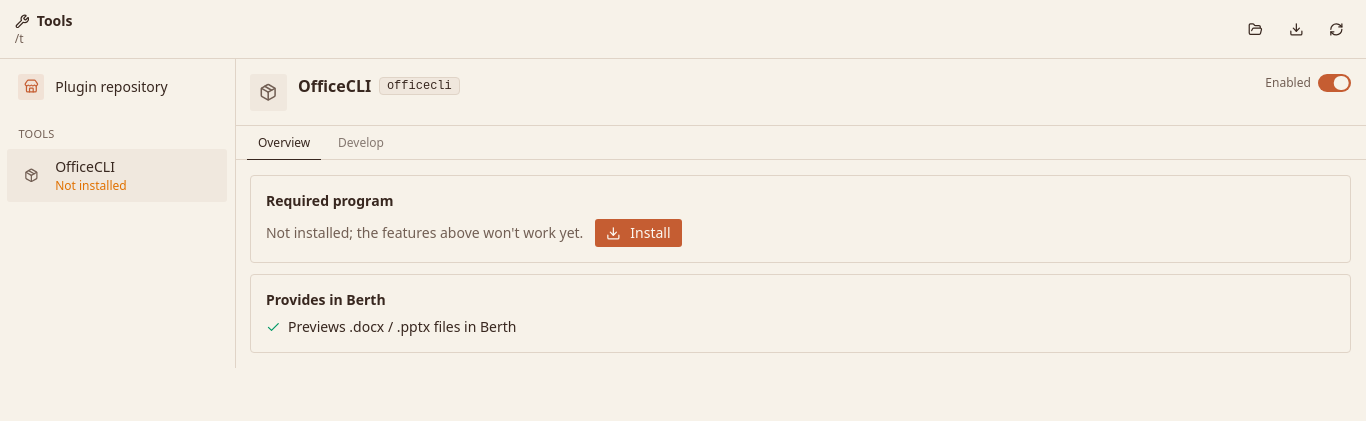
Test: ToolsSettingsPage › shows a missing program and installs it by tool id
expect the text "Previews .docx / .pptx files in Berth" is shown: met, box [288,318,516,336]
expect the text "Not installed" is shown: met, box [55,178,127,194]
Click the button "Install".
click(638, 233)  # box [594,218,683,248]
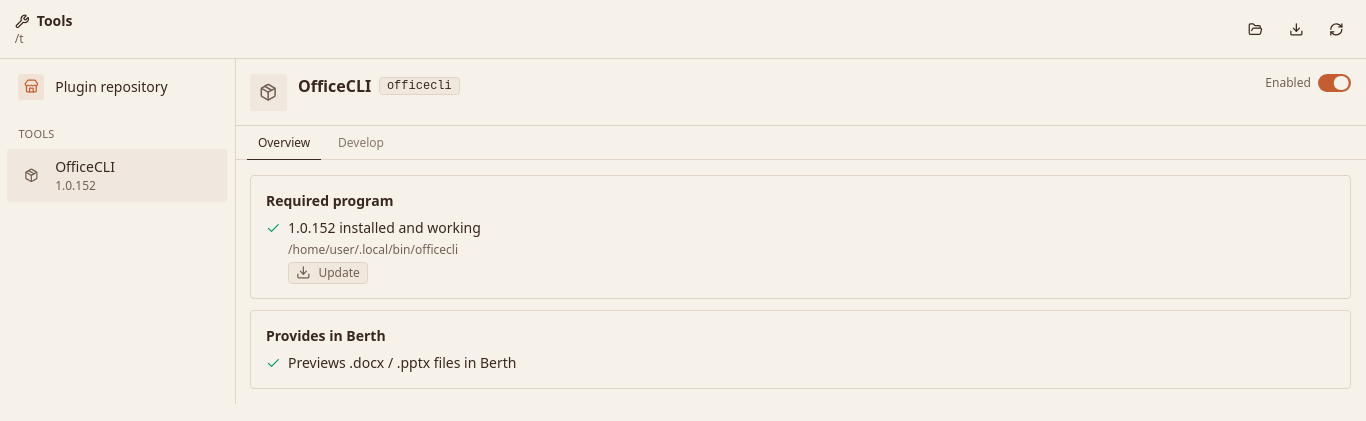
expect the text "1.0.152 installed and working" is shown: met, box [266,218,481,237]
